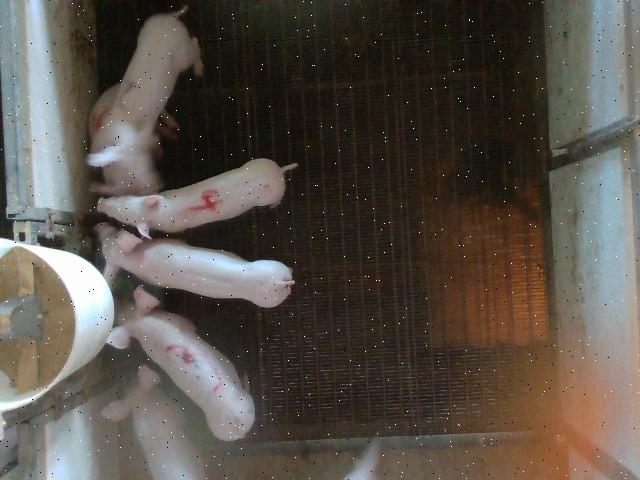pig-2: (88, 9, 202, 193)
pig-3: (108, 286, 255, 441)
pig-4: (98, 159, 296, 236)
